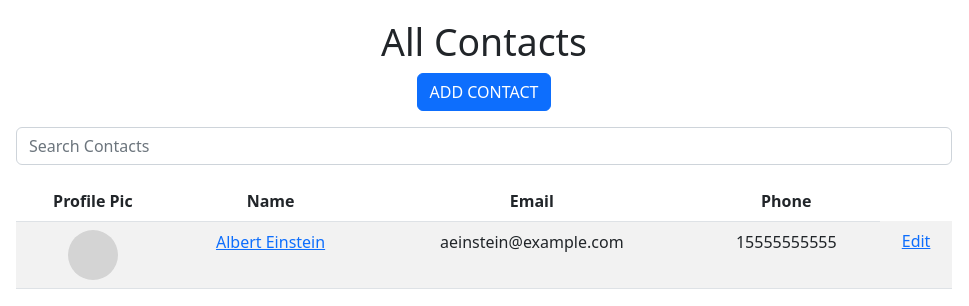
Scenario: App › home page › should render the all contacts table
This screenshot has width=969, height=306.
Expected: the heading "All Contacts" is shown, [381,16,587,67]
Note: filter by name
Type "Albert" into the field with placeholder "Search Contacts" at {"x": 484, "y": 146}, box [16,127,952,165]
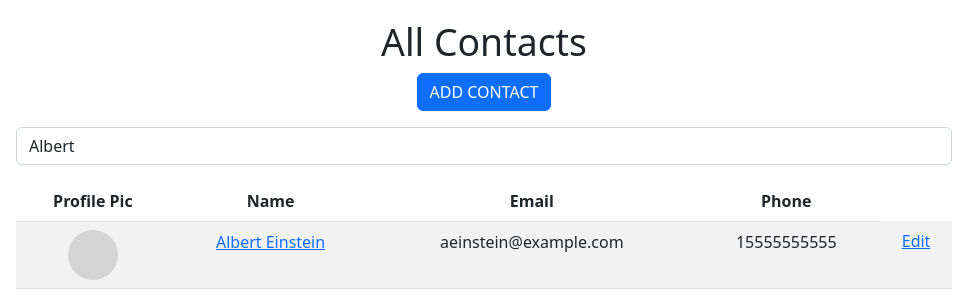
Expected: the link "Albert Einstein" is shown, [216,231,325,253]
Note: filter by name that doesn't exist
Replace the text in the field with placeholder "Search Contacts" with "Jane" at {"x": 484, "y": 146}, box [16,127,952,165]
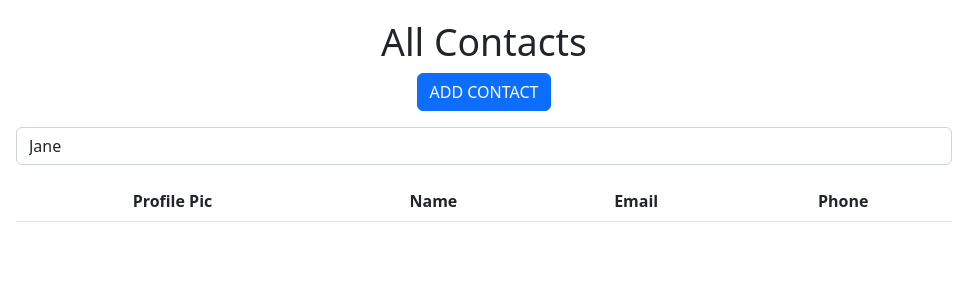
Expected: the link "Albert Einstein" is gone
